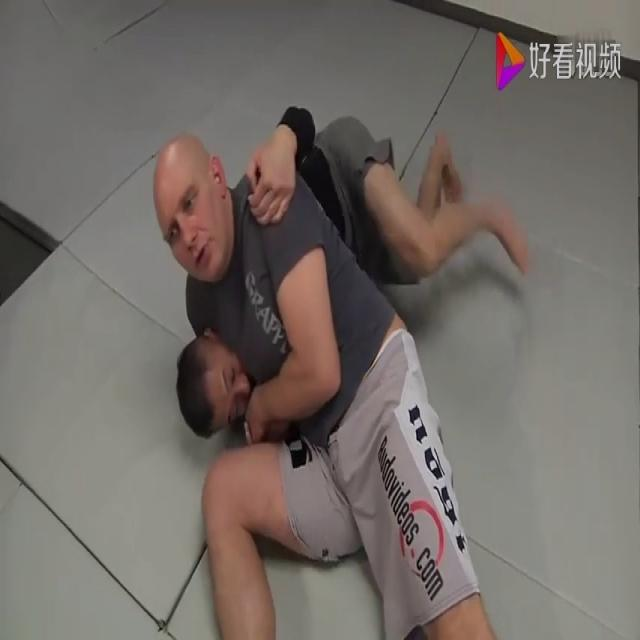fight: (121, 85, 556, 639)
